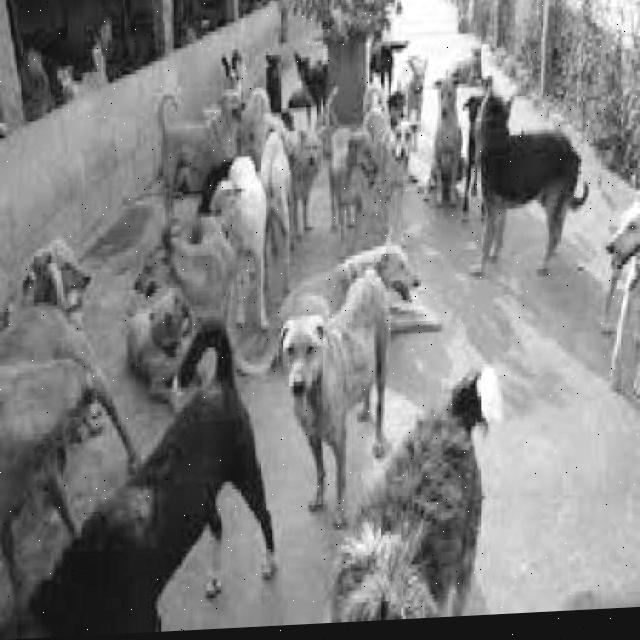Dog: (13, 325, 275, 635), (275, 264, 402, 539), (474, 67, 594, 306), (285, 236, 437, 413), (155, 78, 251, 181), (130, 278, 202, 403), (13, 232, 104, 328), (374, 95, 424, 227), (430, 54, 464, 219), (288, 97, 322, 226), (252, 63, 272, 144)
